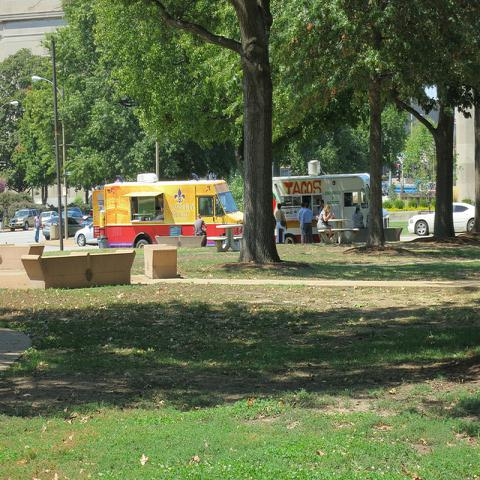car: (407, 202, 475, 236), (42, 216, 84, 239), (8, 207, 41, 232), (74, 221, 98, 247), (40, 210, 59, 228), (62, 206, 83, 216), (382, 182, 390, 196)
truck: (92, 180, 246, 247), (272, 160, 390, 244)
